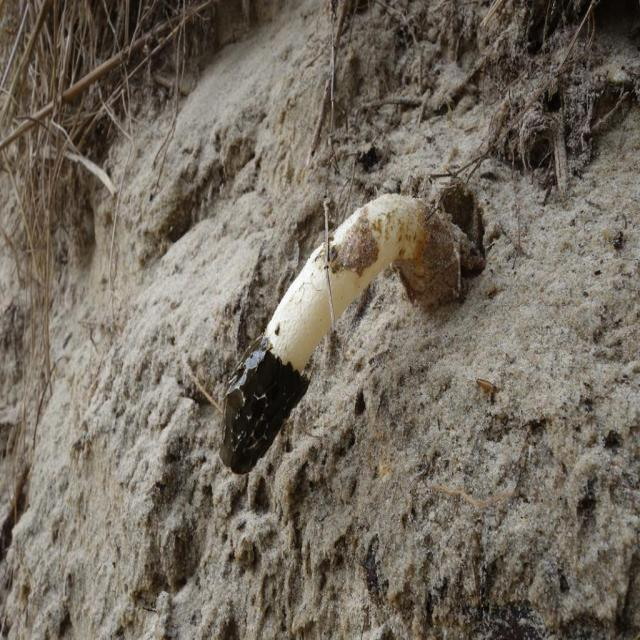Dictyophora indusiate: (223, 194, 474, 472)
